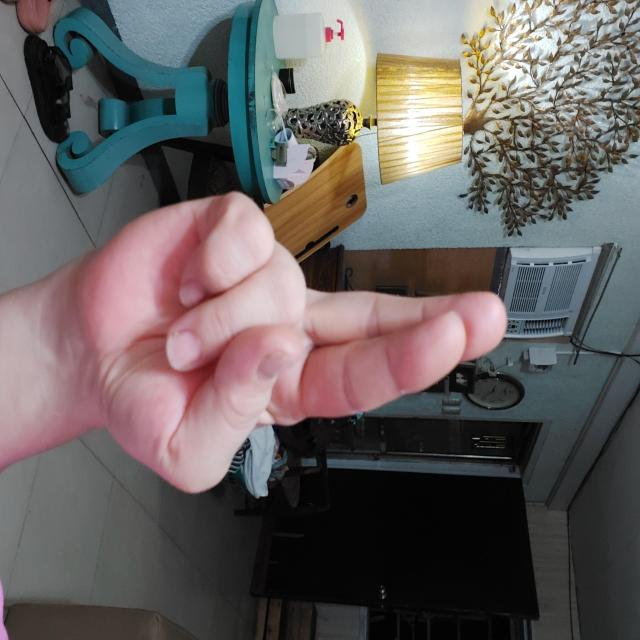R: (190, 132, 495, 563)
